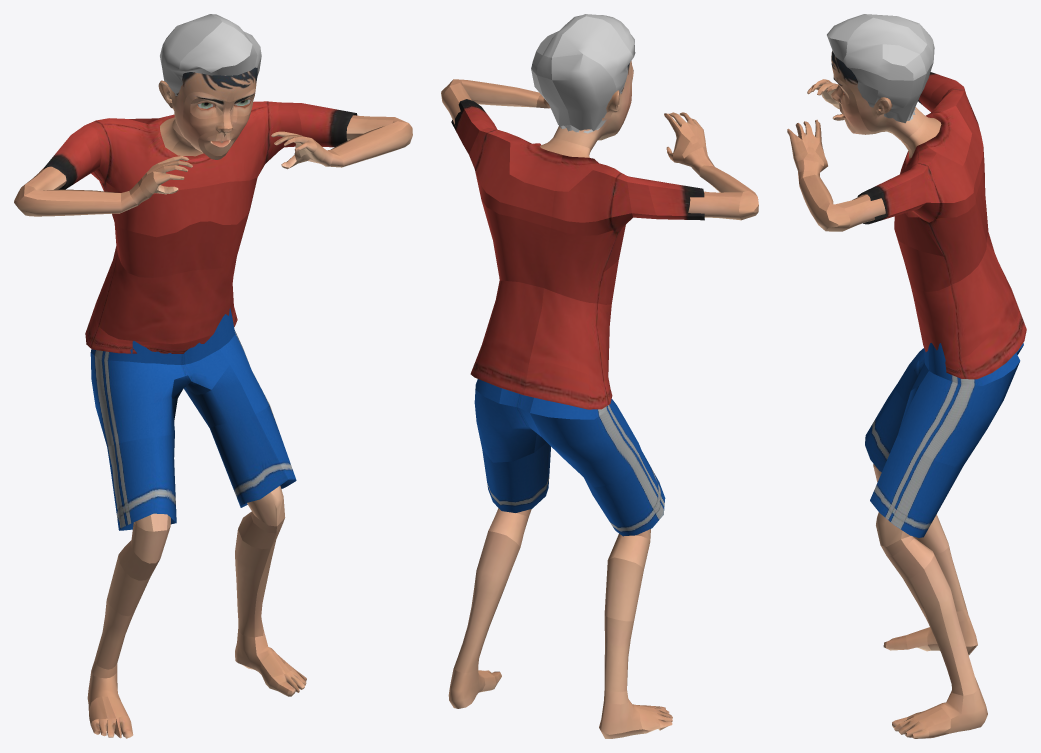
File: shouting boy.fbx
The picture shows the model from 3 angles, left to right: view 1: azimuth 30°, elevation 25°; view 2: azimuth 150°, elevation 25°; view 3: azimuth 270°, elevation 25°; orthographic projection. The views are drawn at different scales.
Visible parts, largest first — view 1: childer1; view 2: childer1; view 3: childer1.
Part boxes in pixels (left/top/right/bottom): childer1: left=14, top=14, right=412, bottom=738; childer1: left=441, top=14, right=758, bottom=738; childer1: left=787, top=14, right=1026, bottom=738.
Size of the model in its own units: 28.18 by 52.52 by 16.89.
